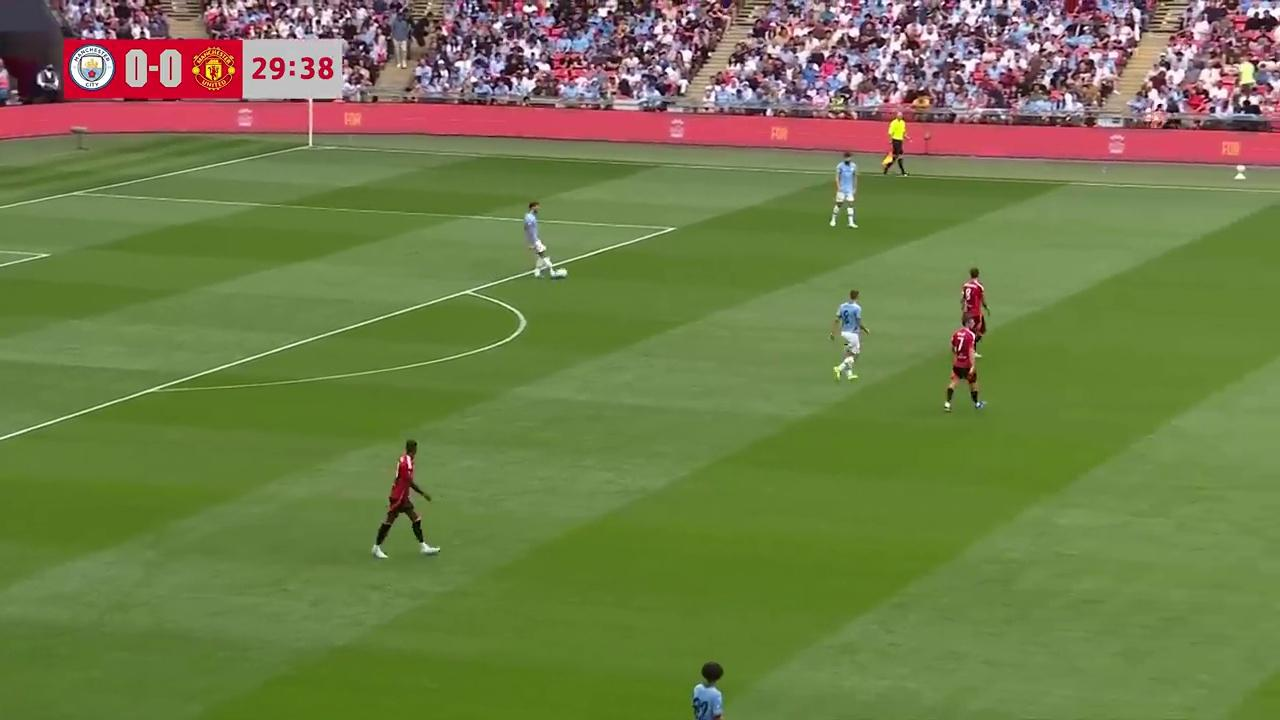ball: (552, 264, 570, 281)
player: (370, 439, 439, 559), (942, 318, 986, 412), (829, 289, 871, 381), (523, 201, 557, 276), (829, 152, 858, 229), (960, 267, 990, 340), (691, 660, 725, 720)
referee: (881, 116, 907, 177)
